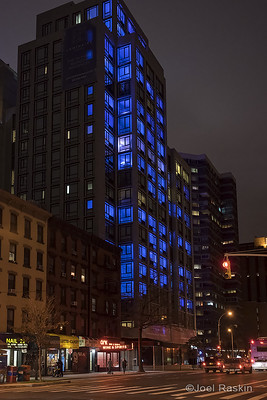medium: (13, 3, 173, 369)
